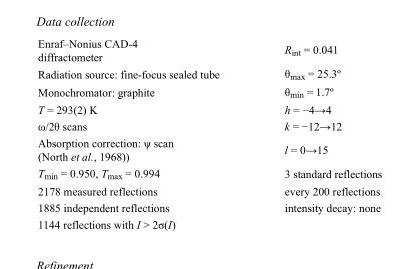table: (37, 36, 381, 230)
table column: (37, 36, 251, 230), (251, 36, 381, 230)
table row: (37, 134, 381, 164), (37, 36, 381, 64), (37, 64, 381, 82), (37, 82, 381, 100), (37, 164, 381, 182), (37, 100, 381, 117), (37, 117, 381, 134), (37, 198, 381, 215), (37, 182, 381, 198), (37, 215, 381, 230)
